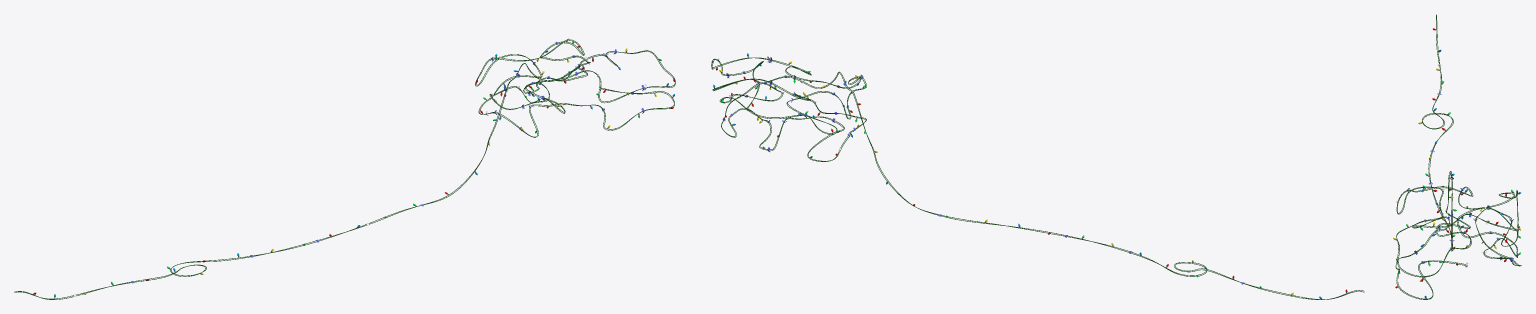
Rendered from StringLightModel (1).fbx.
3 views of the same model, side by side, from view 1: azimuth 30°, elevation 25°; view 2: azimuth 150°, elevation 25°; view 3: azimuth 270°, elevation 25° (orthographic).
Parts seen in each view (by area): view 1: polySurface362; view 2: polySurface362; view 3: polySurface362.
Boxes of the visible parts, x1,y1,x2,y2 form: polySurface362: (14, 38, 675, 299); polySurface362: (711, 53, 1364, 299); polySurface362: (1393, 14, 1521, 299).
Bounding box in the file's own units: 1371 × 268 × 230.
